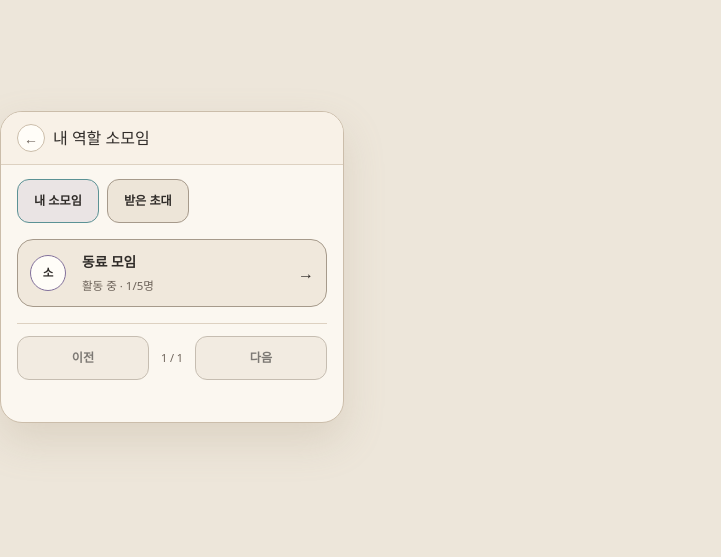
Test: does not query leader invitations for a regular member
The image size is (721, 557).
Click the button "소 동료 모임 활동 중 · 1/5명 →" at (48, 273), box [17,239,327,307]
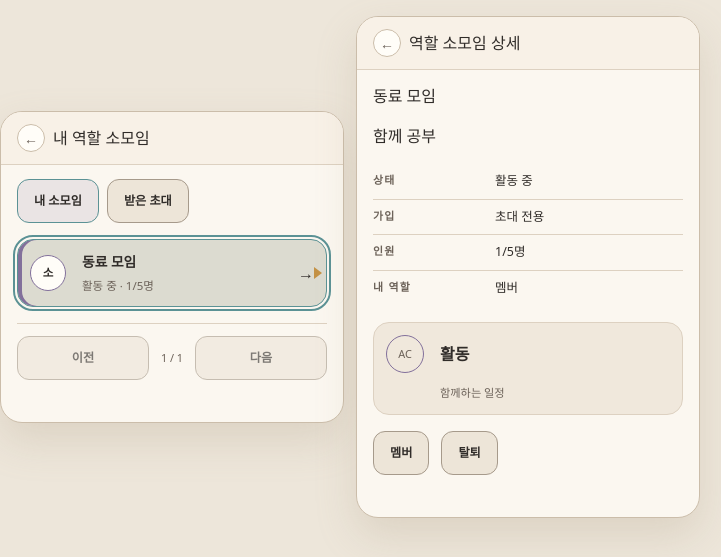
Result: the text "멤버" is shown at [495,279,518,296]
